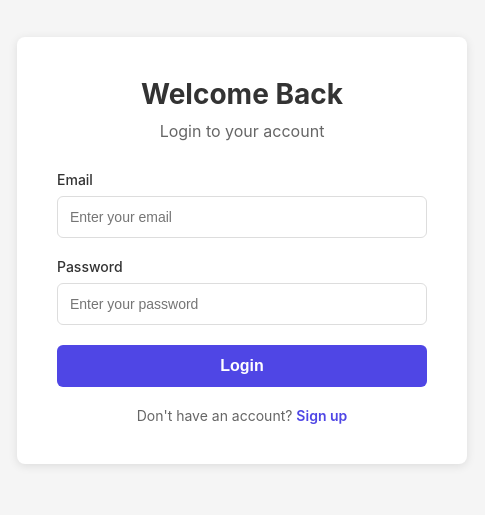
Test: Login Integration Tests › should show error message for invalid credentials
Type "invalid@example.com" into the field labelled "Email" at (242, 216), box [57,196,427,238]
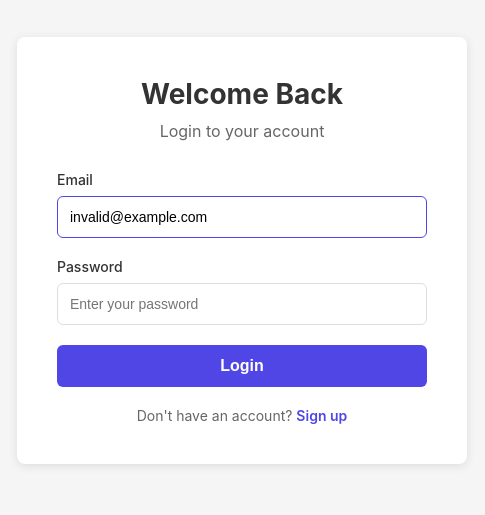
Type "wrongpassword" into the password field labelled "Password" at (242, 304), box [57,282,427,324]
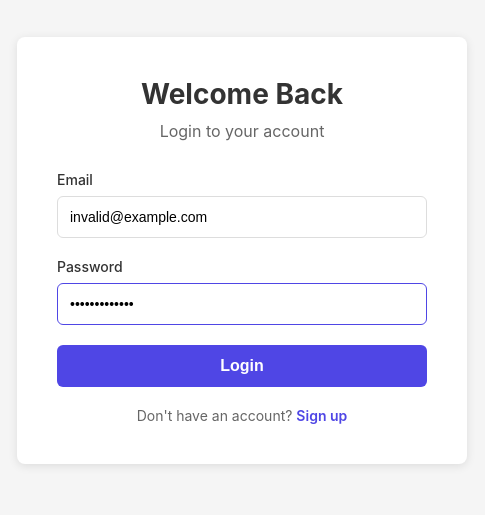
Click the button "Login" at (242, 366), box [57,344,427,386]
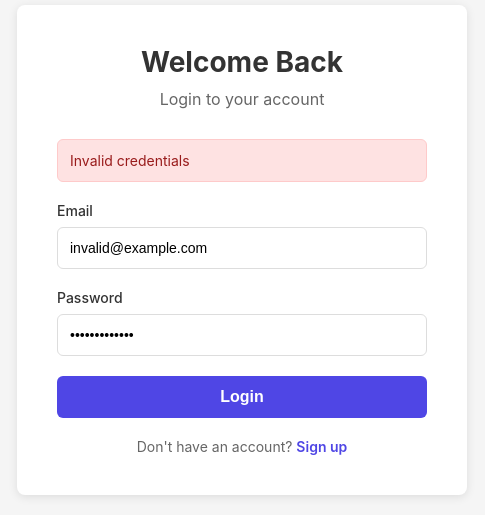
Expected: the text "Invalid credentials" is shown, [57,139,427,182]
